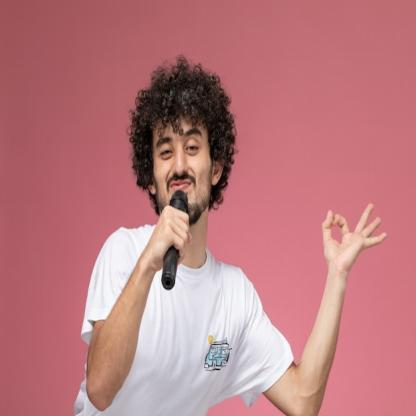ok: (321, 197, 388, 274)
